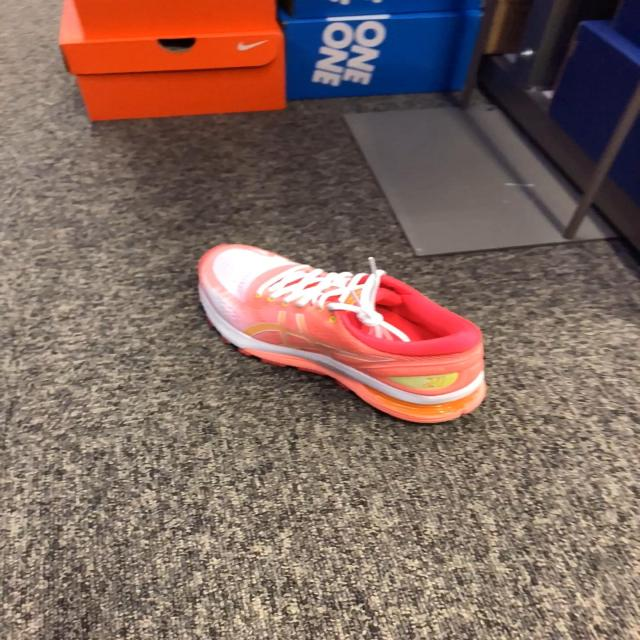shoe: (196, 243, 488, 427)
